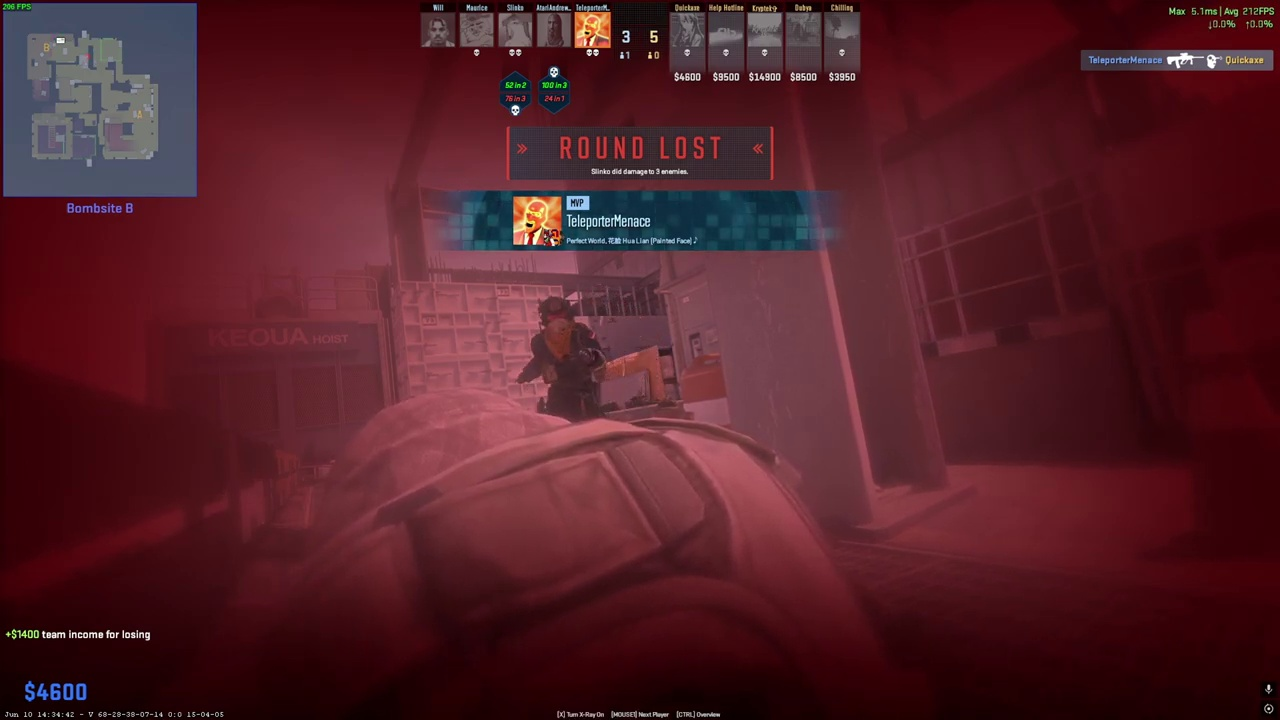CT: (521, 296, 604, 422)
